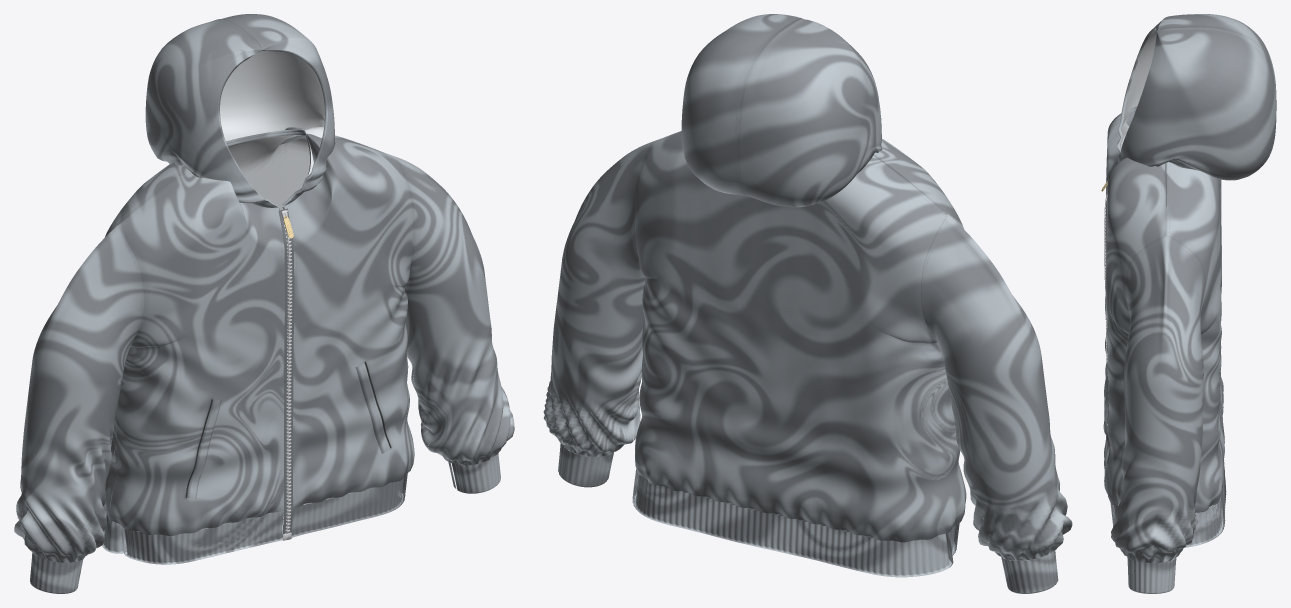
Rendered from ressac-v2-silver-drift.glb.
3 renders of one model, left to right at view 1: azimuth 30°, elevation 25°; view 2: azimuth 150°, elevation 25°; view 3: azimuth 270°, elevation 25°, orthographic. The views are drawn at different scales.
Parts seen in each view (by area): view 1: Panel_Right, Panel_Left, Sleeve_Right, Sleeve_Left, Hood_Outer, Hem, Hood_Inner, Body_Back, Zip_Teeth_Right, Zip_Teeth_Left, Cuff_Right, Cuff_Left (+2 smaller); view 2: Body_Back, Hood_Outer, Sleeve_Right, Sleeve_Left, Hem, Panel_Right, Cuff_Right, Cuff_Left; view 3: Sleeve_Left, Hood_Outer, Panel_Left, Body_Back, Cuff_Left, Hem, Hood_Inner, Panel_Right, Pocket_Left, Zip_Teeth_Left.
Boxes of the visible parts, x1=… form: Panel_Right: x1=111, y1=170, x2=284, y2=535; Panel_Left: x1=282, y1=133, x2=414, y2=508; Sleeve_Right: x1=14, y1=225, x2=144, y2=562; Sleeve_Left: x1=397, y1=157, x2=514, y2=465; Hood_Outer: x1=145, y1=14, x2=335, y2=207; Hem: x1=102, y1=473, x2=407, y2=564; Hood_Inner: x1=220, y1=51, x2=324, y2=175; Body_Back: x1=103, y1=127, x2=381, y2=521; Zip_Teeth_Right: x1=278, y1=209, x2=291, y2=540; Zip_Teeth_Left: x1=283, y1=208, x2=294, y2=539; Cuff_Right: x1=30, y1=552, x2=83, y2=593; Cuff_Left: x1=448, y1=453, x2=500, y2=493; Body_Back: x1=634, y1=132, x2=955, y2=542; Hood_Outer: x1=681, y1=14, x2=882, y2=207; Sleeve_Right: x1=921, y1=214, x2=1072, y2=560; Sleeve_Left: x1=543, y1=142, x2=651, y2=457; Hem: x1=632, y1=469, x2=959, y2=577; Panel_Right: x1=873, y1=138, x2=966, y2=529; Cuff_Right: x1=1001, y1=550, x2=1058, y2=593; Cuff_Left: x1=558, y1=443, x2=613, y2=487; Sleeve_Left: x1=1111, y1=234, x2=1205, y2=562; Hood_Outer: x1=1116, y1=14, x2=1276, y2=180; Panel_Left: x1=1104, y1=157, x2=1166, y2=506; Body_Back: x1=1165, y1=162, x2=1224, y2=512; Cuff_Left: x1=1127, y1=557, x2=1176, y2=593; Hem: x1=1110, y1=423, x2=1226, y2=547; Hood_Inner: x1=1119, y1=30, x2=1168, y2=160; Panel_Right: x1=1103, y1=106, x2=1137, y2=435; Pocket_Left: x1=1105, y1=363, x2=1109, y2=462; Zip_Teeth_Left: x1=1104, y1=192, x2=1107, y2=425.
Bounding box in the file's own units: 0.9508 × 0.9165 × 0.3121.
Materials: 6 (1 with a texture image).
